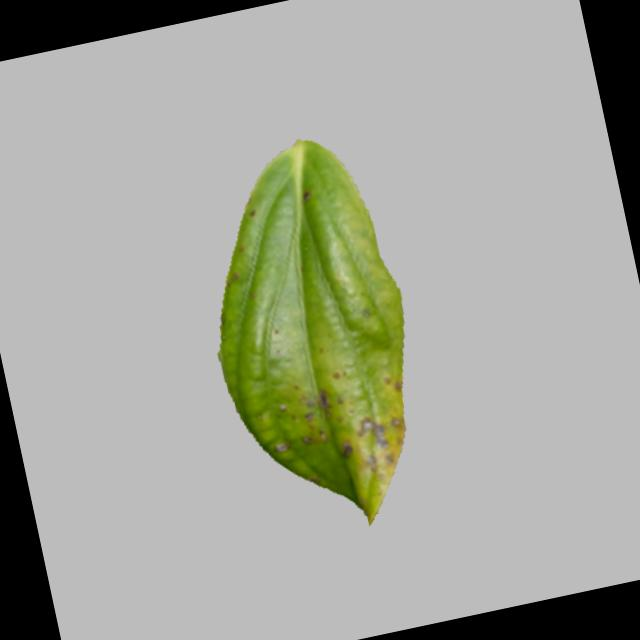yellow-mottle-virus: (177, 121, 450, 550)
